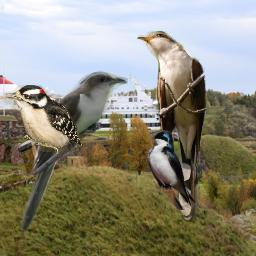Cuckoo: (16, 70, 128, 237), (136, 31, 207, 222)
Swallow: (146, 130, 196, 210)
Woodpecker: (3, 85, 85, 157)
